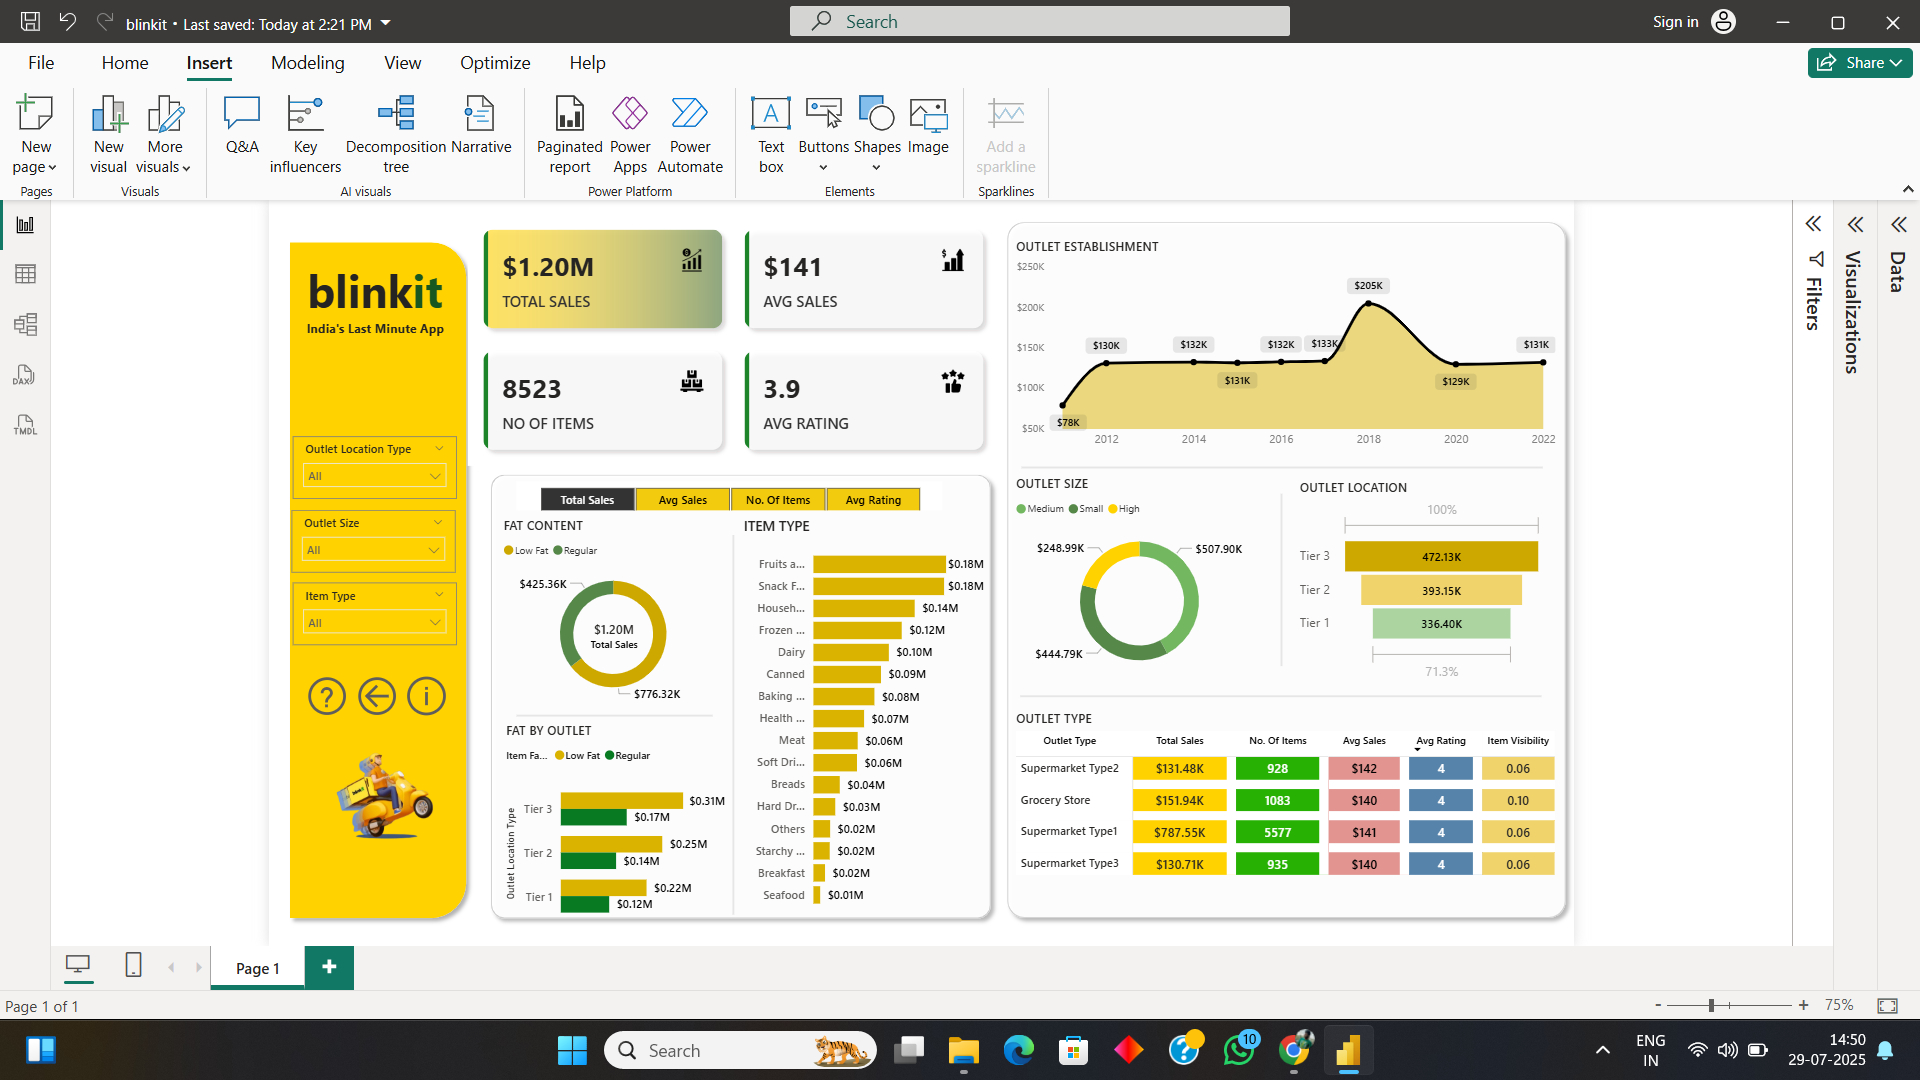

This screenshot's page, from the dashboard's own definition file:
{"tool":"powerbi","page":{"name":"Page 1","canvas":[1400,800],"ordinal":0},"visuals":[{"type":"shape","box":[13.5,36,207.1,742.9],"z":0},{"type":"textbox","box":[28.5,58.5,171.1,82.5],"z":1000},{"type":"textbox","box":[24,123.1,180.1,34.5],"z":2000},{"type":"cardVisual","fields":{"Data":["BlinkIT Grocery Data.Total Sales","BlinkIT Grocery Data.Avg Sales","BlinkIT Grocery Data.No. Of Items","BlinkIT Grocery Data.Avg Rating"]},"box":[213.1,15,570.3,270.2],"z":3000},{"type":"shape","box":[229.6,285.2,553.8,493.8],"z":4000},{"type":"donutChart","title":"FAT CONTENT","fields":{"Y":["BlinkIT Grocery Data.Total Sales"],"Category":["BlinkIT Grocery Data.Item Fat Content"]},"box":[246.7,339.1,245.3,207.8],"z":5000},{"type":"slicer","fields":{"Values":["Metrics.Metrics"]},"box":[265.4,301.6,457.1,30.8],"z":6000},{"type":"cardVisual","fields":{"Data":["BlinkIT Grocery Data.Total Sales"]},"box":[317.7,434.3,105.9,56.3],"z":7000},{"type":"clusteredBarChart","title":"FAT BY OUTLET","fields":{"Y":["BlinkIT Grocery Data.Total Sales"],"Category":["BlinkIT Grocery Data.Outlet Location Type"],"Series":["BlinkIT Grocery Data.Item Fat Content"]},"box":[249.3,559,245.3,230.6],"z":8000},{"type":"shape","box":[265.4,546.9,210.5,12.1],"z":9000},{"type":"shape","box":[492,359.3,12.1,407.5],"z":10000},{"type":"barChart","title":"ITEM TYPE","fields":{"Y":["BlinkIT Grocery Data.Total Sales"],"Category":["BlinkIT Grocery Data.Item Type"]},"box":[504,339.1,268.1,430.3],"z":11000},{"type":"shape","box":[782.8,14.7,616.6,764.1],"z":12000},{"type":"lineChart","title":"OUTLET ESTABLISHMENT","fields":{"Y":["BlinkIT Grocery Data.Total Sales"],"Category":["BlinkIT Grocery Data.Outlet Establishment Year"]},"box":[796.3,40.2,588.5,234.6],"z":13000},{"type":"shape","box":[807,274.8,559,24.1],"z":14000},{"type":"donutChart","title":"OUTLET SIZE","fields":{"Y":["BlinkIT Grocery Data.Total Sales"],"Category":["BlinkIT Grocery Data.Outlet Size"]},"box":[796.3,294.9,274.8,225.2],"z":15000},{"type":"shape","box":[1079.1,315,13.4,185],"z":16000},{"type":"funnel","title":"OUTLET LOCATION","fields":{"Y":["Sum(BlinkIT Grocery Data.Sales)"],"Category":["BlinkIT Grocery Data.Outlet Location Type"]},"box":[1100.5,298.9,270.8,221.2],"z":17000},{"type":"shape","box":[805.6,520.1,559,24.1],"z":18000},{"type":"pivotTable","title":"OUTLET TYPE","fields":{"Rows":["BlinkIT Grocery Data.Outlet Type"],"Values":["BlinkIT Grocery Data.Total Sales","BlinkIT Grocery Data.No. Of Items","BlinkIT Grocery Data.Avg Sales","BlinkIT Grocery Data.Avg Rating","Avg(BlinkIT Grocery Data.Item Visibility)"]},"box":[796.3,546.9,588.5,217.2],"z":19000},{"type":"slicer","fields":{"Values":["BlinkIT Grocery Data.Outlet Location Type"]},"box":[25.5,253.4,175.6,67],"z":20000},{"type":"slicer","fields":{"Values":["BlinkIT Grocery Data.Outlet Size"]},"box":[24.1,332.4,175.6,67],"z":21000},{"type":"slicer","fields":{"Values":["BlinkIT Grocery Data.Item Type"]},"box":[25.5,410.2,175.6,67],"z":22000},{"type":"actionButton","box":[134,494.6,69.7,75.1],"z":23000},{"type":"actionButton","box":[81.8,494.6,68.4,75.1],"z":24000},{"type":"actionButton","box":[28.2,494.6,68.4,75.1],"z":25000},{"type":"image","box":[0,490.6,252,298.9],"z":26000}]}

Visuals, with their boxes on the page's 1400x800 design canvas (x1, y1, x2, y2). These are canvas units, not pixel positions in the 1920x1080 screenshot, which may show the page scaled, cropped or inside an application window:
shape: rect(14, 36, 221, 779)
textbox: rect(28, 58, 200, 141)
textbox: rect(24, 123, 204, 158)
cardVisual - BlinkIT Grocery Data.Total Sales x BlinkIT Grocery Data.Avg Sales: rect(213, 15, 783, 285)
shape: rect(230, 285, 783, 779)
"FAT CONTENT" donutChart: rect(247, 339, 492, 547)
slicer - Metrics.Metrics: rect(265, 302, 722, 332)
cardVisual - BlinkIT Grocery Data.Total Sales: rect(318, 434, 424, 491)
"FAT BY OUTLET" clusteredBarChart: rect(249, 559, 495, 790)
shape: rect(265, 547, 476, 559)
shape: rect(492, 359, 504, 767)
"ITEM TYPE" barChart: rect(504, 339, 772, 769)
shape: rect(783, 15, 1399, 779)
"OUTLET ESTABLISHMENT" lineChart: rect(796, 40, 1385, 275)
shape: rect(807, 275, 1366, 299)
"OUTLET SIZE" donutChart: rect(796, 295, 1071, 520)
shape: rect(1079, 315, 1092, 500)
"OUTLET LOCATION" funnel: rect(1100, 299, 1371, 520)
shape: rect(806, 520, 1365, 544)
"OUTLET TYPE" pivotTable: rect(796, 547, 1385, 764)
slicer - BlinkIT Grocery Data.Outlet Location Type: rect(26, 253, 201, 320)
slicer - BlinkIT Grocery Data.Outlet Size: rect(24, 332, 200, 399)
slicer - BlinkIT Grocery Data.Item Type: rect(26, 410, 201, 477)
actionButton: rect(134, 495, 204, 570)
actionButton: rect(82, 495, 150, 570)
actionButton: rect(28, 495, 97, 570)
image: rect(0, 491, 252, 790)
